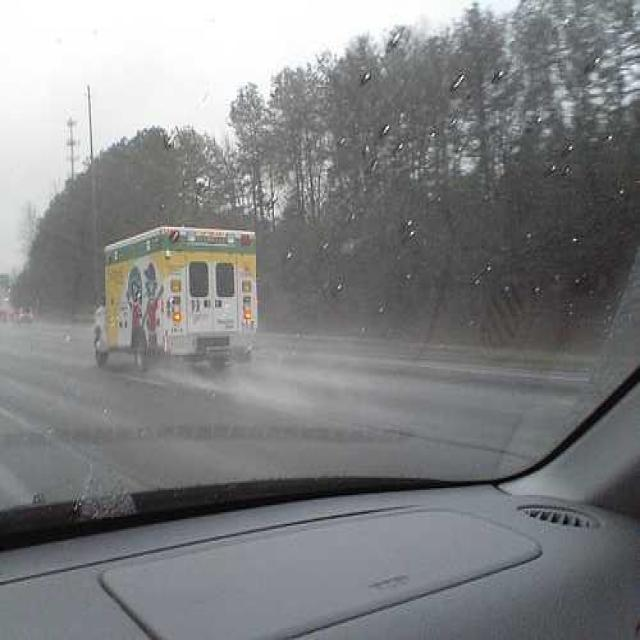ambulance: (81, 203, 308, 399)
